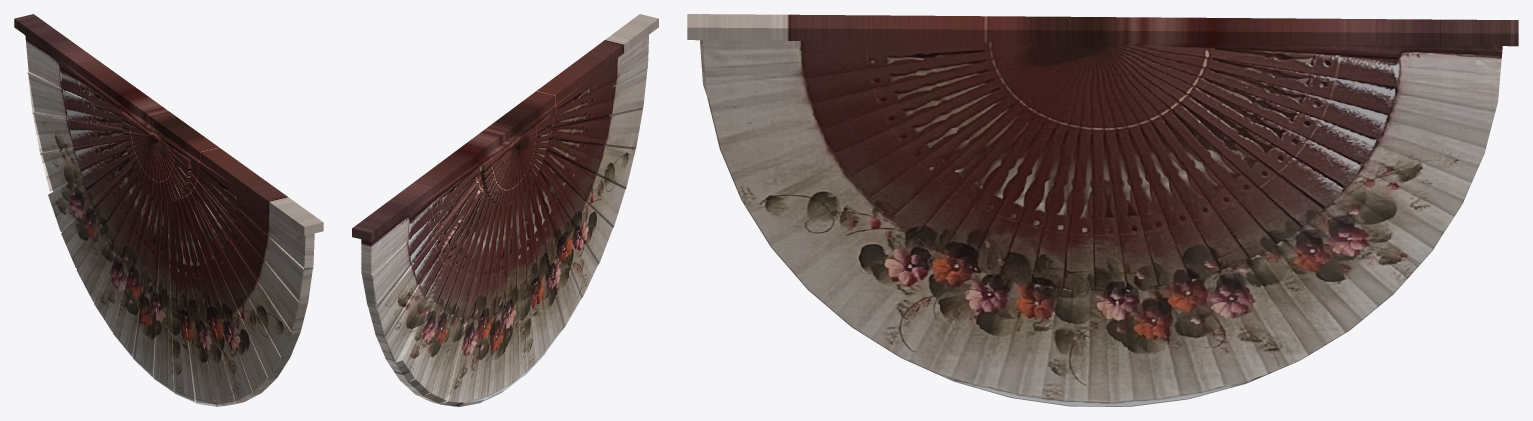
Rendered from spainFan.16ffce3f.glb.
3 renders of one model, left to right at view 1: azimuth 30°, elevation 25°; view 2: azimuth 150°, elevation 25°; view 3: azimuth 270°, elevation 25°, orthographic. The views are drawn at different scales.
Parts seen in each view (by area): view 1: Fan; view 2: Fan; view 3: Fan.
Boxes of the visible parts, left/top/right/bottom form: Fan: left=14, top=14, right=323, bottom=406; Fan: left=352, top=14, right=658, bottom=406; Fan: left=687, top=14, right=1518, bottom=406.
Size of the model in its own units: 0.0389 by 0.4271 by 0.8409.
Materials: 1 (1 with a texture image).
